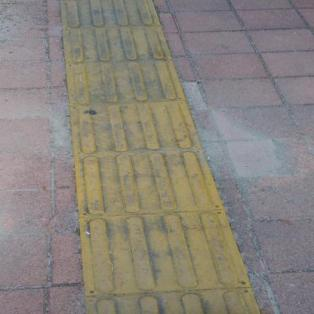Podoctatil: (54, 0, 268, 313)
